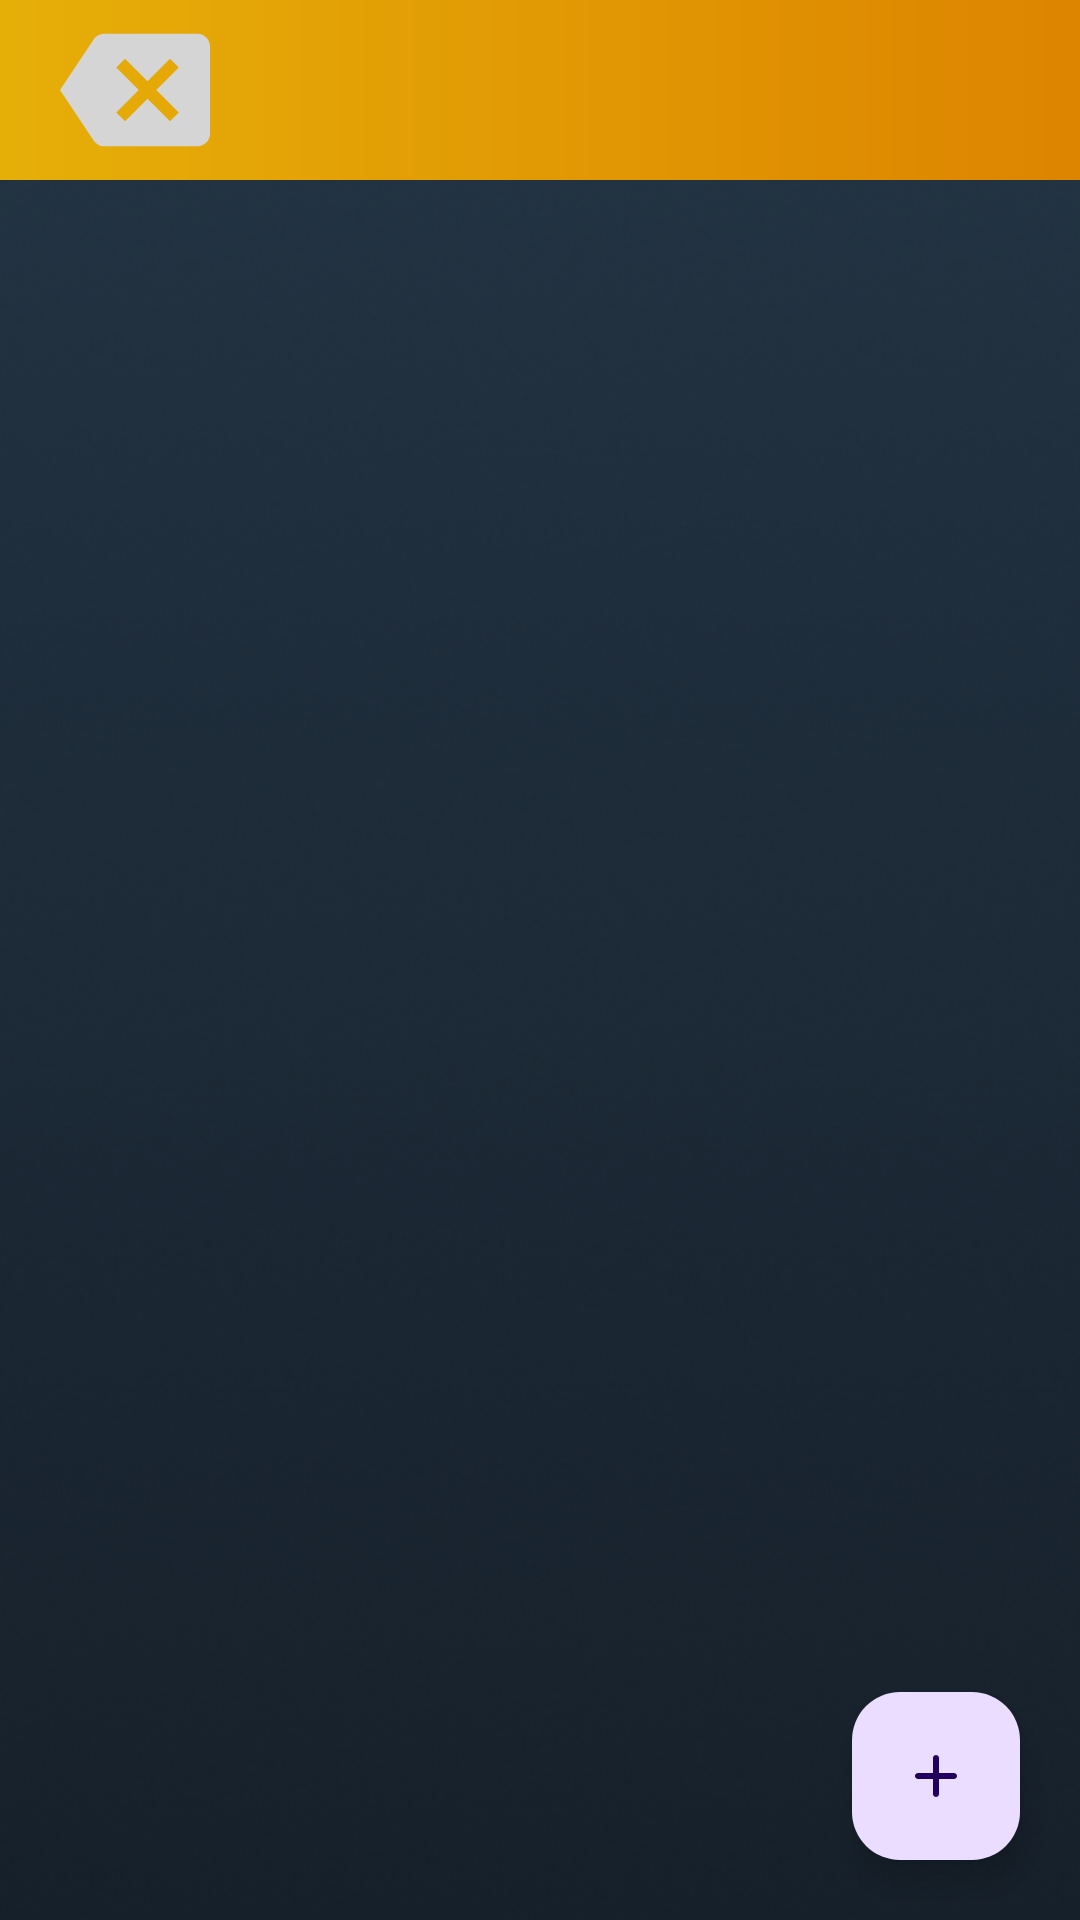

Named icons in this screenshot (1080 × 1920) and their bounding boxes, region(x1, y1, x2, y2):
add: region(852, 1692, 1020, 1860)
backspace: region(60, 33, 210, 147)
